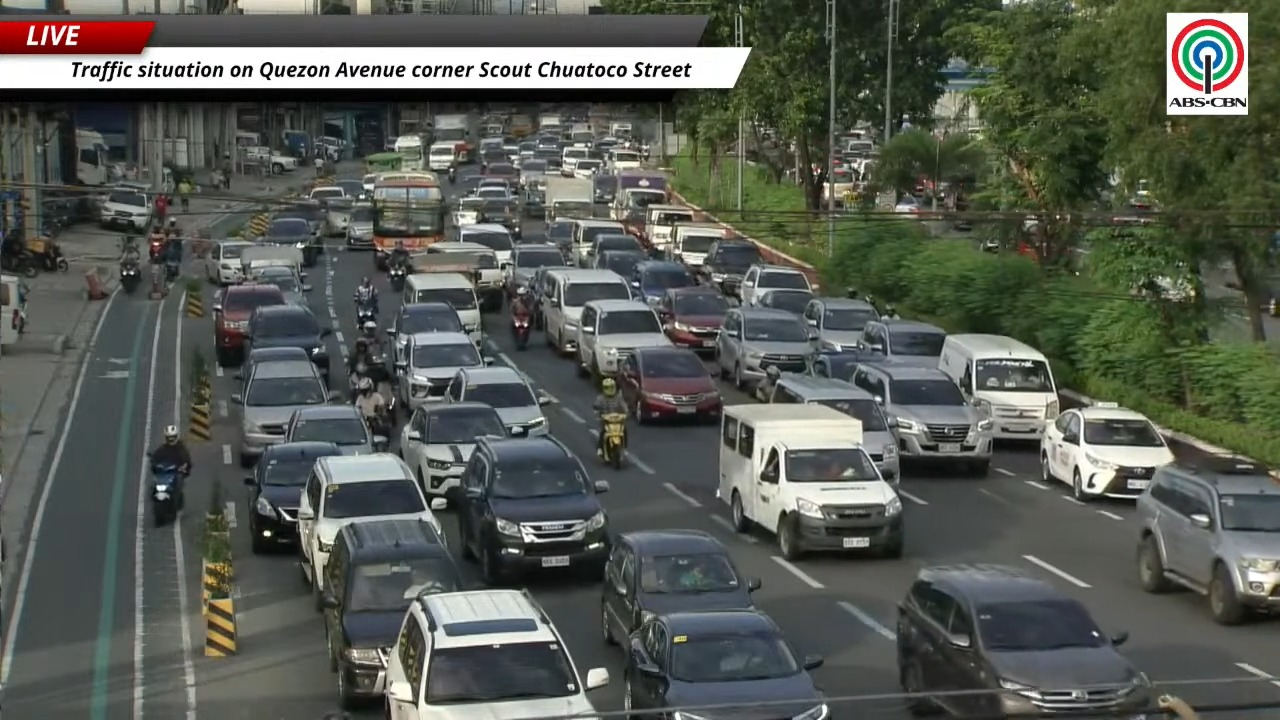bus: (371, 170, 446, 268), (394, 134, 425, 170)
car: (895, 564, 1152, 716), (386, 590, 608, 719), (322, 519, 462, 708), (1135, 457, 1279, 624), (456, 435, 609, 585), (297, 453, 444, 609), (624, 610, 828, 719), (601, 530, 760, 644), (851, 363, 993, 475), (766, 373, 900, 483), (1040, 403, 1174, 500), (232, 360, 337, 466), (244, 442, 341, 553), (400, 402, 507, 498), (715, 306, 813, 388), (618, 347, 722, 423), (396, 332, 490, 411), (576, 300, 672, 377), (446, 365, 551, 435), (245, 302, 331, 380), (213, 283, 286, 366), (284, 404, 387, 455), (656, 286, 729, 352), (386, 302, 464, 361), (858, 318, 946, 367), (803, 297, 879, 352), (699, 238, 763, 296), (258, 216, 324, 266), (506, 243, 566, 297), (630, 260, 696, 305), (739, 264, 811, 305), (527, 261, 566, 329), (457, 223, 514, 266), (99, 187, 153, 232), (236, 347, 309, 379), (580, 232, 646, 267), (204, 239, 253, 286), (809, 349, 882, 380), (308, 185, 353, 235), (255, 266, 310, 306), (477, 194, 522, 237), (272, 201, 324, 235), (755, 289, 814, 316), (591, 250, 648, 277), (260, 217, 312, 245), (346, 204, 375, 249), (323, 196, 354, 237), (484, 150, 519, 181), (545, 219, 574, 253), (480, 143, 509, 175), (473, 182, 513, 201), (592, 174, 616, 204), (334, 179, 365, 199), (573, 158, 603, 178), (894, 195, 921, 215), (361, 173, 379, 197)
motorcycle: (151, 463, 182, 526), (27, 237, 68, 271), (600, 413, 625, 468), (364, 398, 394, 439), (0, 248, 38, 278), (119, 261, 141, 293), (512, 315, 531, 351), (355, 302, 377, 328), (388, 263, 406, 292), (148, 234, 166, 262), (164, 257, 180, 282), (447, 166, 456, 184)
truck: (717, 404, 904, 560), (427, 241, 503, 312), (610, 170, 669, 235), (544, 176, 594, 222), (433, 113, 476, 163), (75, 127, 110, 186), (538, 114, 563, 135)
